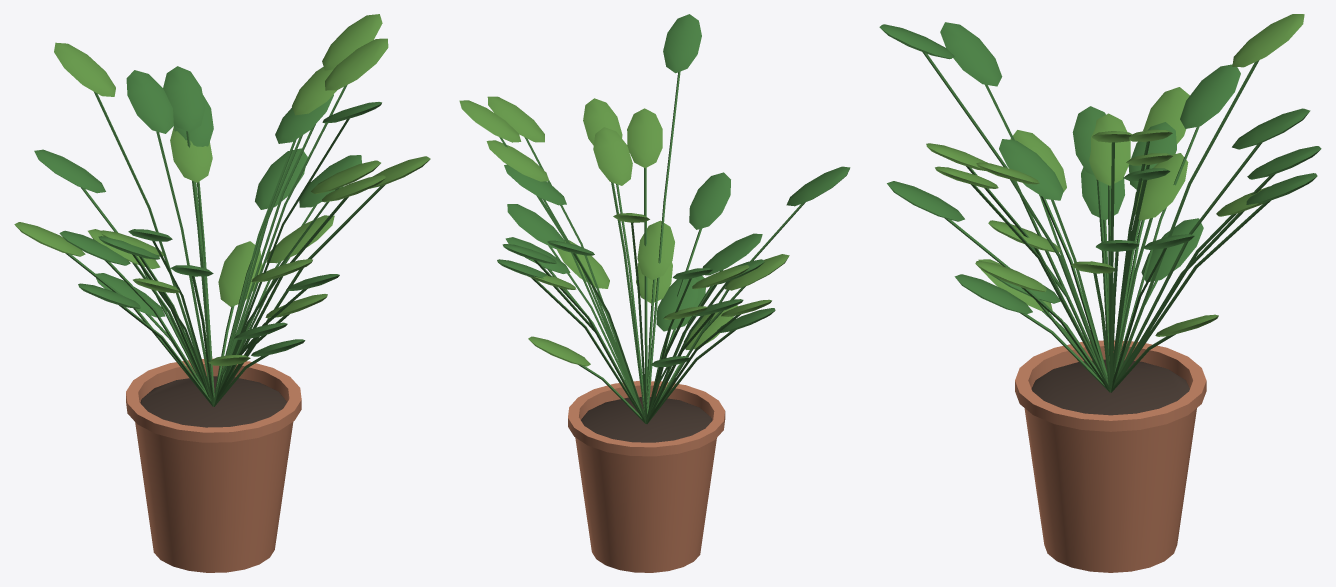
Rendered from floor_plant_1.glb.
3 views of the same model, side by side, from view 1: azimuth 30°, elevation 25°; view 2: azimuth 150°, elevation 25°; view 3: azimuth 270°, elevation 25° (orthographic). The views are drawn at different scales.
Parts seen in each view (by area): view 1: Leaves, Pot, Leaves light, Soil; view 2: Leaves, Pot, Leaves light, Soil; view 3: Leaves, Pot, Leaves light, Soil.
Part boxes in pixels (x1,y1,x2,y2): Leaves: (34,66,384,406); Pot: (126,358,301,572); Leaves light: (14,14,430,365); Soil: (140,376,287,427); Leaves: (497,14,850,423); Pot: (568,381,725,572); Leaves light: (459,96,789,366); Soil: (581,397,711,442); Leaves: (879,22,1321,392); Pot: (1015,340,1206,572); Leaves light: (926,14,1304,336); Soil: (1031,359,1189,415).
Bounding box in the file's own units: 1.1 × 1.5 × 1.1.
